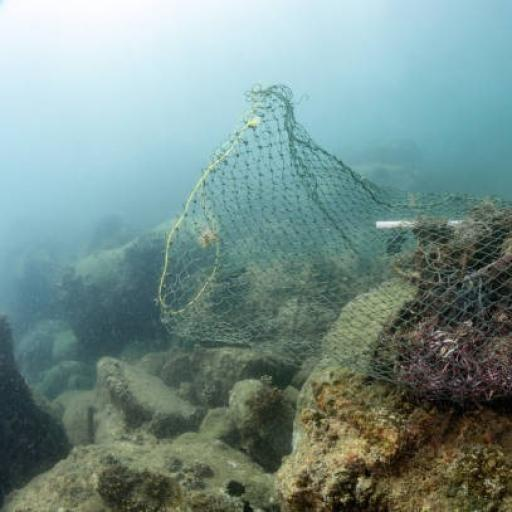net: (152, 85, 512, 405)
